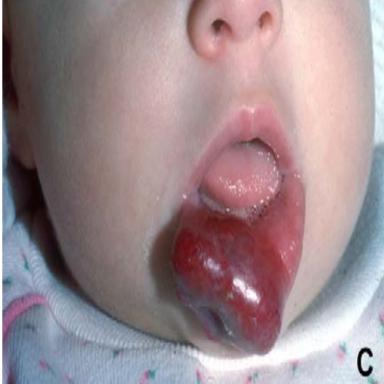Hemangiome: (173, 205, 287, 352)
